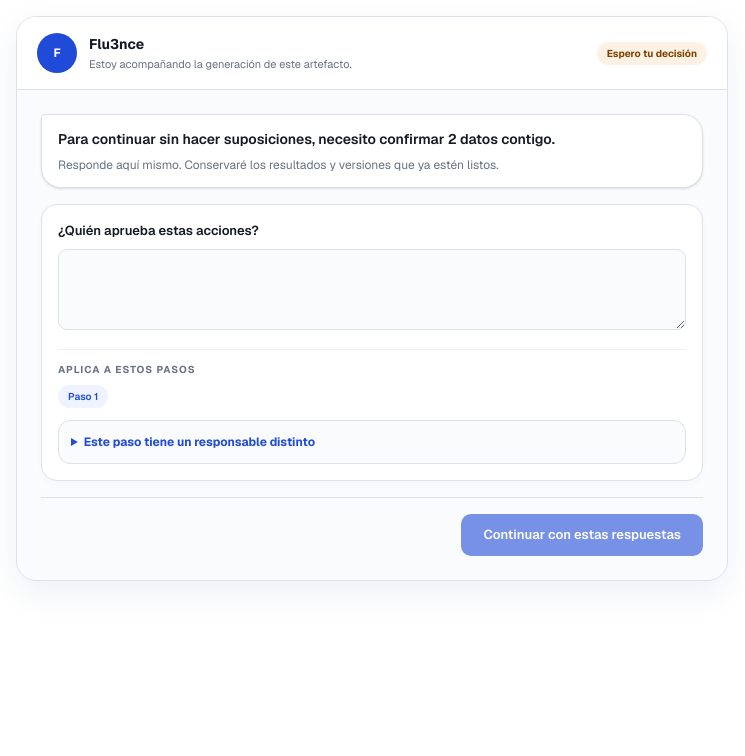
Test: QuestionForm: needs_input › prepara excepciones de Question.overrides bajo la pregunta de grupo
Expected: the text "Aplica a estos pasos" is shown, x1=58 y1=362 x2=196 y2=376
Expected: the text "Paso 1" is shown, x1=58 y1=384 x2=108 y2=408
Click the heading "Este paso tiene un responsable distinto": click(199, 442) x1=84 y1=434 x2=315 y2=450
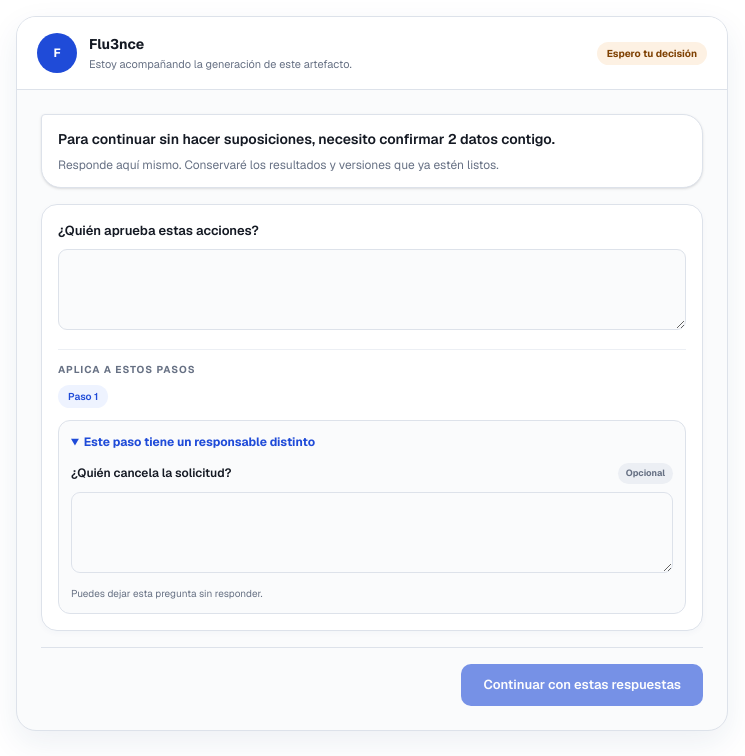
Now the text "¿Quién cancela la solicitud?" is shown, box x1=71 y1=462 x2=231 y2=482
